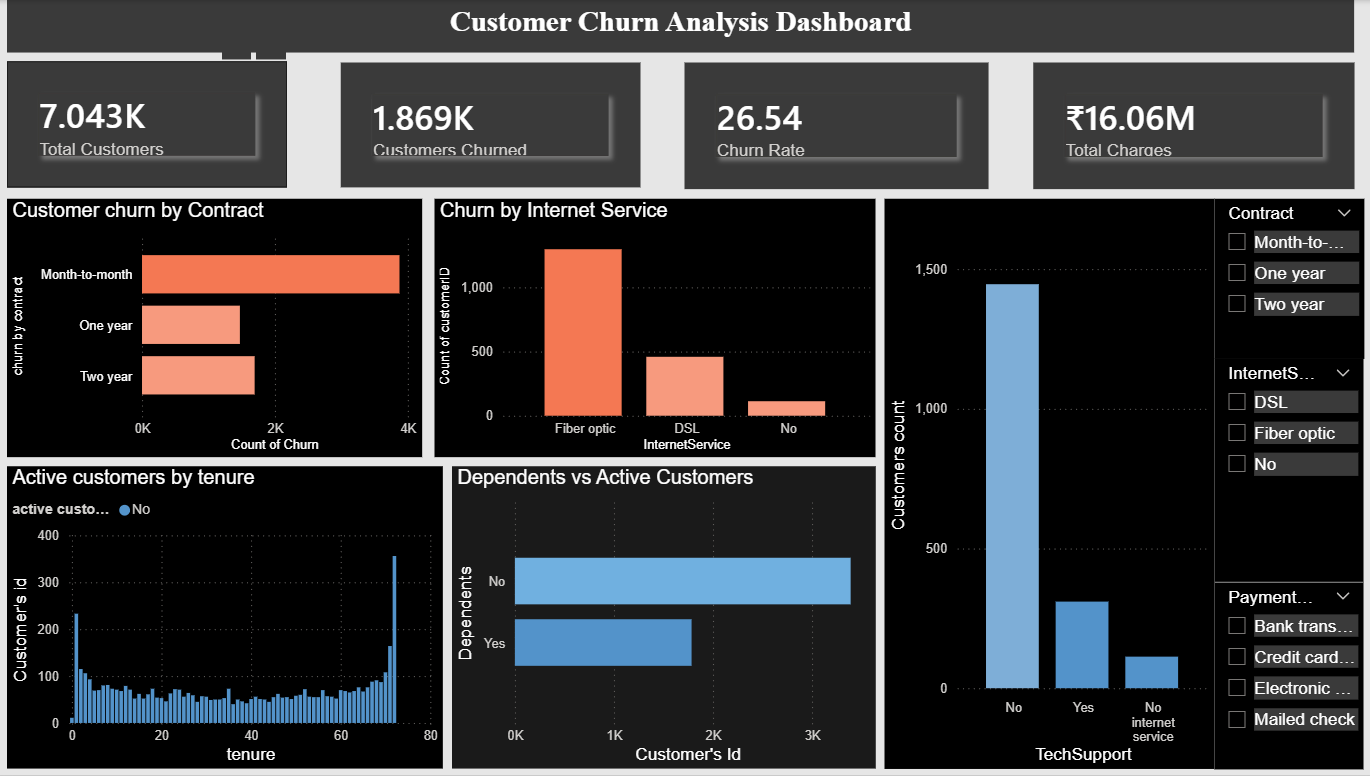

Layout of this report page (visuals, bound fields, positions):
{"tool":"powerbi","page":{"name":"bi report","canvas":[1278,720],"ordinal":0},"visuals":[{"type":"cardVisual","fields":{"Data":["CountNonNull(teleco customer churn data.customerID)"]},"box":[9.3,56.9,260.1,117.3],"z":0},{"type":"cardVisual","fields":{"Data":["CountNonNull(teleco customer churn data.Churn)"]},"box":[319.3,58,278.6,116.1],"z":1000},{"type":"cardVisual","fields":{"Data":["teleco customer churn data.churn rate%"]},"box":[638.5,58,282.1,117.3],"z":2000},{"type":"cardVisual","fields":{"Data":["Sum(teleco customer churn data.TotalCharges)"]},"box":[962.5,58,298.4,117.3],"z":3000},{"type":"clusteredBarChart","title":"Customer churn by Contract","fields":{"Category":["teleco customer churn data.Contract"],"Y":["CountNonNull(teleco customer churn data.Churn)"]},"box":[9.3,184.6,385.4,240.3],"z":4000},{"type":"columnChart","title":"Churn  by Internet Service","fields":{"Category":["teleco customer churn data.InternetService"],"Y":["CountNonNull(teleco customer churn data.customerID)"]},"box":[406.3,184.6,409.8,240.3],"z":5000},{"type":"clusteredColumnChart","title":"Active customers by tenure","fields":{"Y":["CountNonNull(teleco customer churn data.customerID)"],"Category":["teleco customer churn data.tenure"],"Series":["teleco customer churn data.Churn"]},"box":[9.3,433,405.2,281],"z":6000},{"type":"barChart","title":"Dependents vs Active Customers","fields":{"Category":["teleco customer churn data.Dependents"],"Y":["CountNonNull(teleco customer churn data.customerID)"]},"box":[422.6,433,393.6,281],"z":7000},{"type":"clusteredColumnChart","title":"Tech support vs Churn","fields":{"Category":["teleco customer churn data.TechSupport"],"Y":["CountNonNull(teleco customer churn data.customerID)"]},"box":[824.3,184.6,306.5,529.4],"z":8000},{"type":"slicer","fields":{"Values":["teleco customer churn data.Contract"]},"box":[1130.8,184.9,139.5,148.6],"z":9000},{"type":"slicer","fields":{"Values":["teleco customer churn data.InternetService"]},"box":[1130.8,333.5,138.4,207.6],"z":10000},{"type":"slicer","fields":{"Values":["teleco customer churn data.PaymentMethod"]},"box":[1130.8,541,138.4,173.5],"z":11000},{"type":"textbox","box":[9.3,0,1251.5,48.8],"z":12000}]}

Visuals, with their boxes in screenshot pixels (x1, y1, x2, y2), scaled from the page's 1278x720 canvas onto the 1370x776 screenshot:
cardVisual - CountNonNull(teleco customer churn data.customerID): 10/61/289/188
cardVisual - CountNonNull(teleco customer churn data.Churn): 342/63/641/188
cardVisual - teleco customer churn data.churn rate%: 684/63/987/189
cardVisual - Sum(teleco customer churn data.TotalCharges): 1032/63/1352/189
"Customer churn by Contract" clusteredBarChart: 10/199/423/458
"Churn  by Internet Service" columnChart: 436/199/875/458
"Active customers by tenure" clusteredColumnChart: 10/467/444/770
"Dependents vs Active Customers" barChart: 453/467/875/770
"Tech support vs Churn" clusteredColumnChart: 884/199/1212/770
slicer - teleco customer churn data.Contract: 1212/199/1362/359
slicer - teleco customer churn data.InternetService: 1212/359/1361/583
slicer - teleco customer churn data.PaymentMethod: 1212/583/1361/770
textbox: 10/0/1352/53
